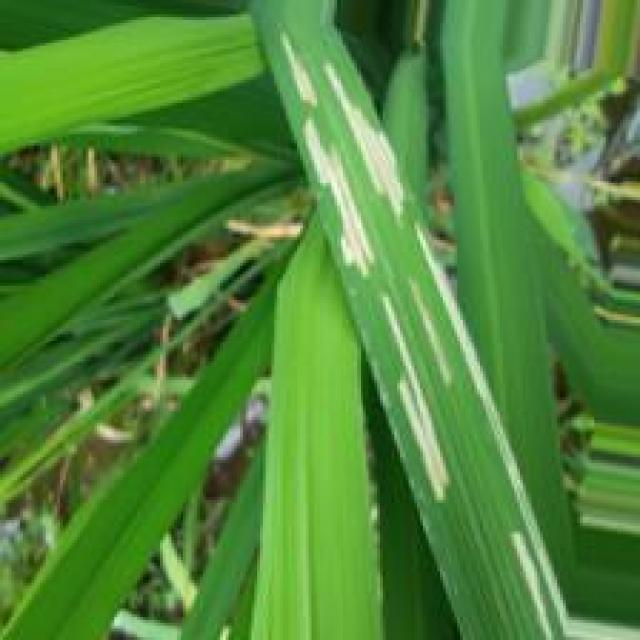Rice_Hispa: (412, 217, 636, 640), (286, 31, 374, 273), (381, 292, 456, 508), (329, 65, 404, 218)
